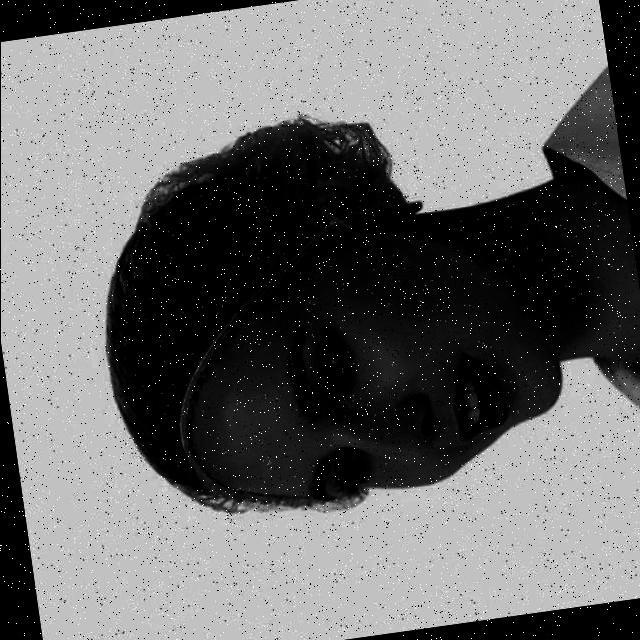gloves: (92, 165, 312, 506)
no_hairnet: (374, 304, 521, 460)
